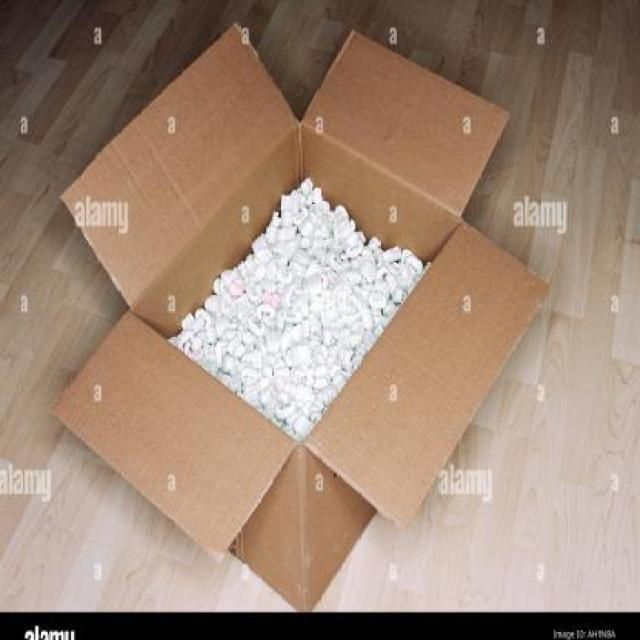box: (52, 22, 550, 615)
